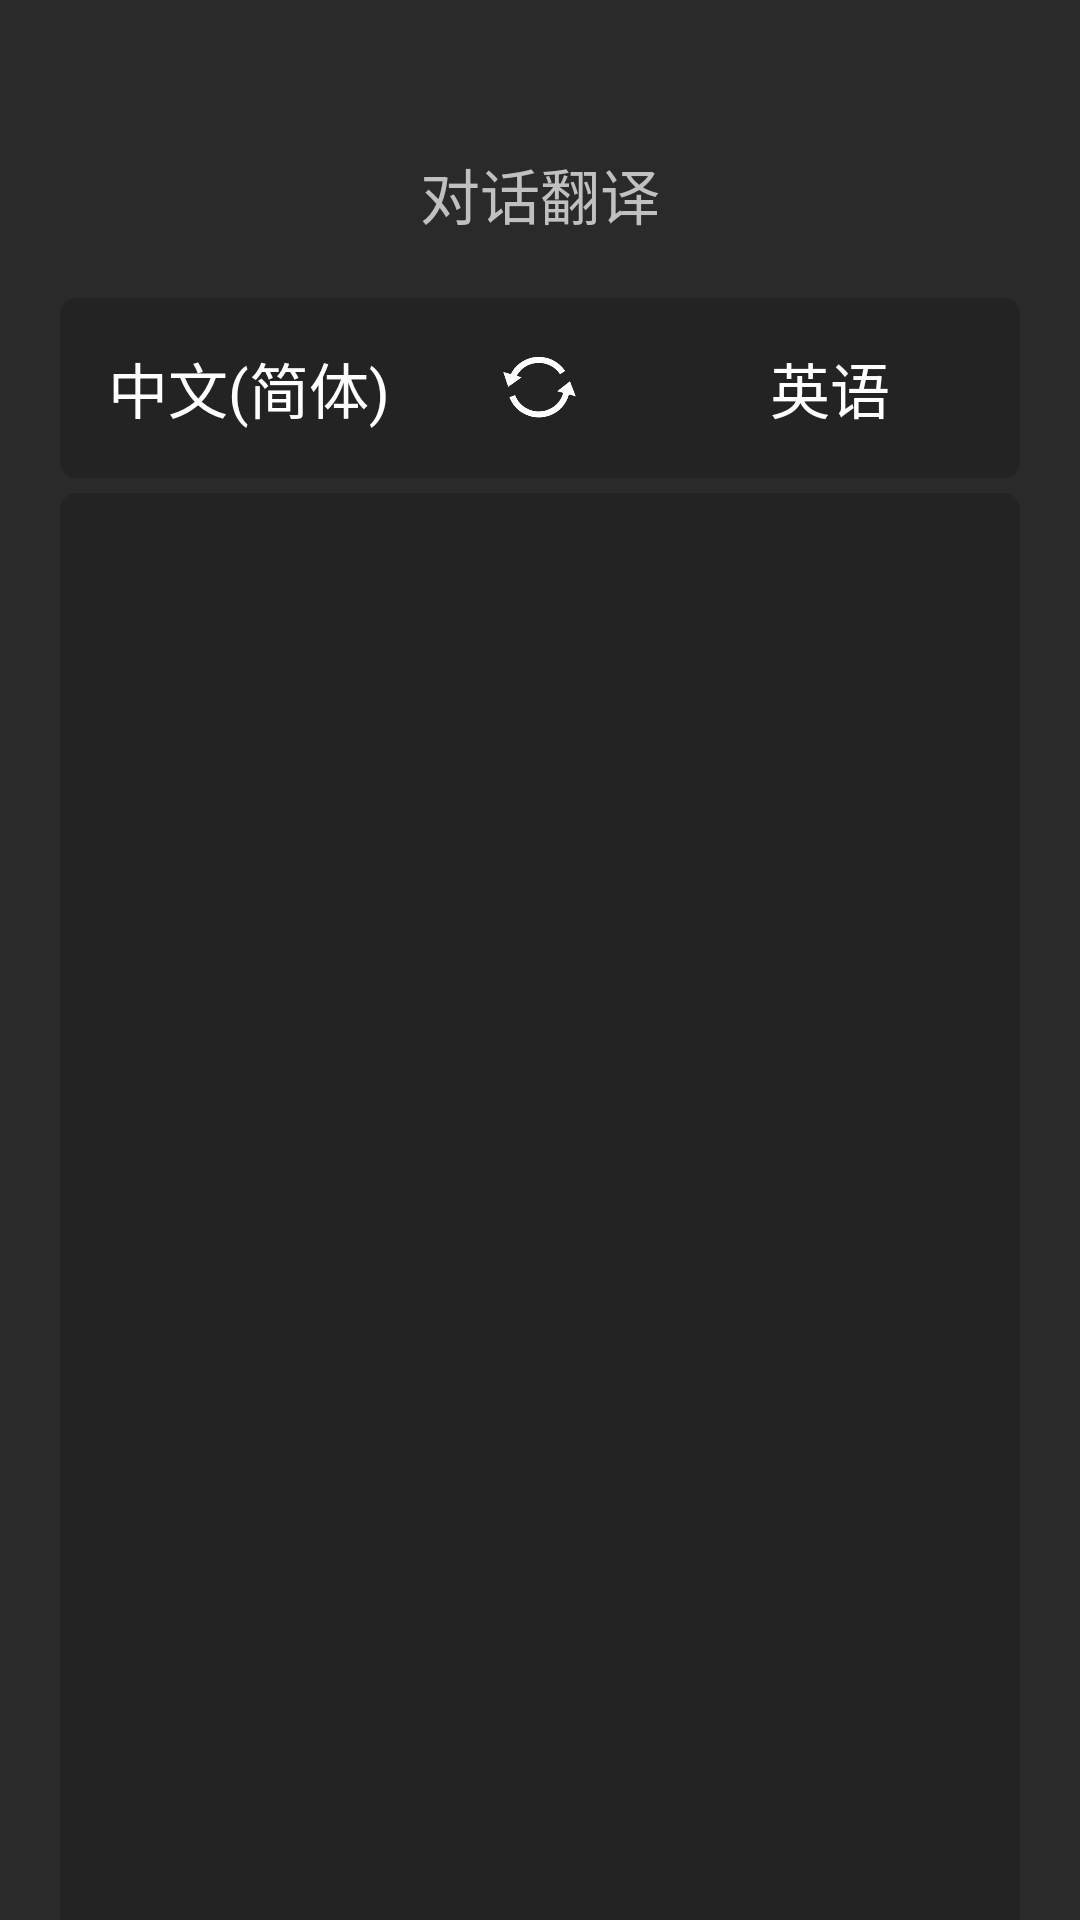

Point at icon controls on the screen. Image size 1080*1920, points as (x=x, y=y).
convert: (x=539, y=387)
